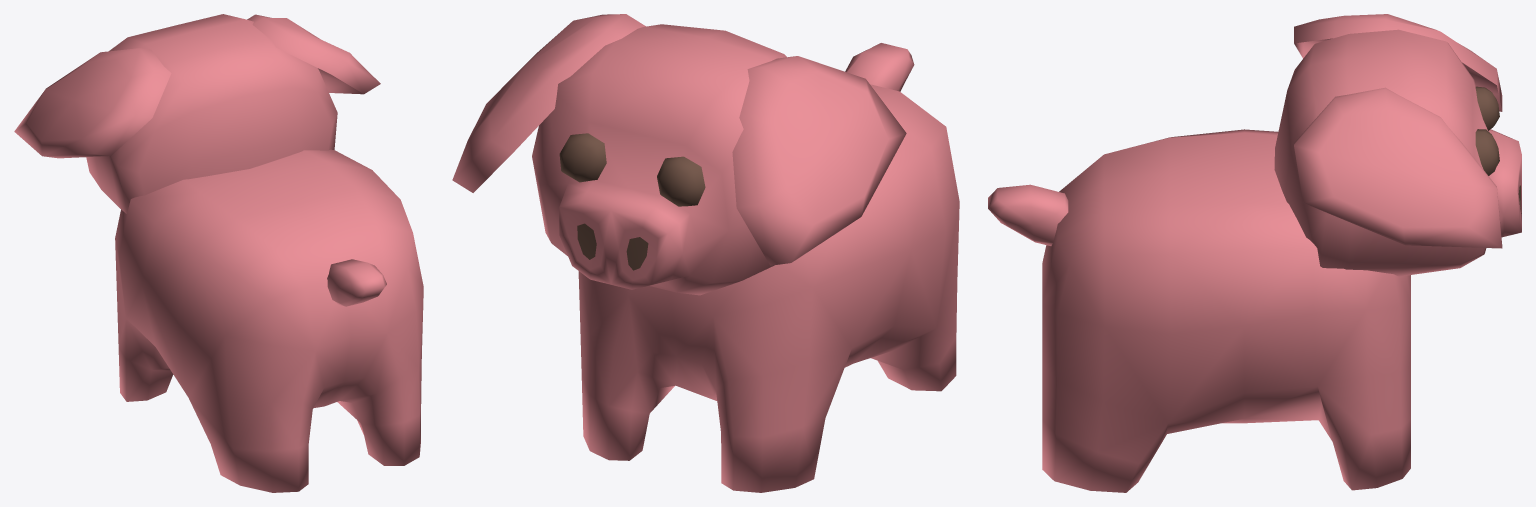
Rendered from piggy.fbx.
3 renders of one model, left to right at view 1: azimuth 30°, elevation 25°; view 2: azimuth 150°, elevation 25°; view 3: azimuth 270°, elevation 25°, orthographic. The views are drawn at different scales.
Visible parts, largest first — view 1: Cube.006; view 2: Cube.006; view 3: Cube.006.
Boxes of the visible parts, bbox=[...] form: Cube.006: bbox=[14, 14, 423, 492]; Cube.006: bbox=[452, 14, 959, 492]; Cube.006: bbox=[988, 14, 1521, 492].
Bounding box in the file's own units: 514 × 541 × 678.
